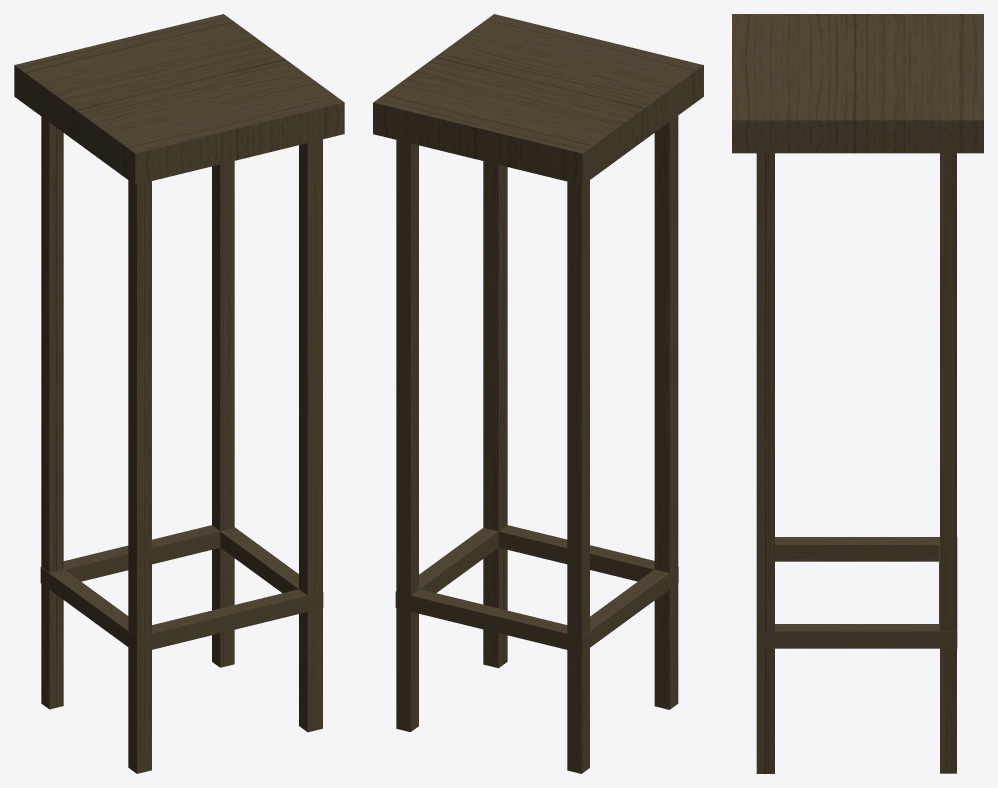
The model's file is StehTuech.fbx.
3 views of the same model, side by side, from view 1: azimuth 30°, elevation 25°; view 2: azimuth 150°, elevation 25°; view 3: azimuth 270°, elevation 25° (orthographic). The views are drawn at different scales.
Visible parts, largest first — view 1: Cube; view 2: Cube; view 3: Cube.
Part boxes in pixels (x1,y1,x2,y2): Cube: [14, 14, 344, 773]; Cube: [373, 14, 703, 773]; Cube: [732, 14, 983, 773].
Bounding box in the file's own units: 60 × 173 × 60.
